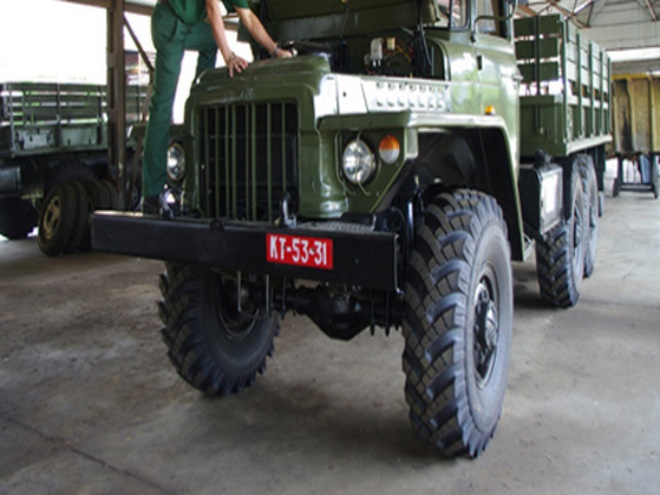plate: (268, 232, 334, 269)
